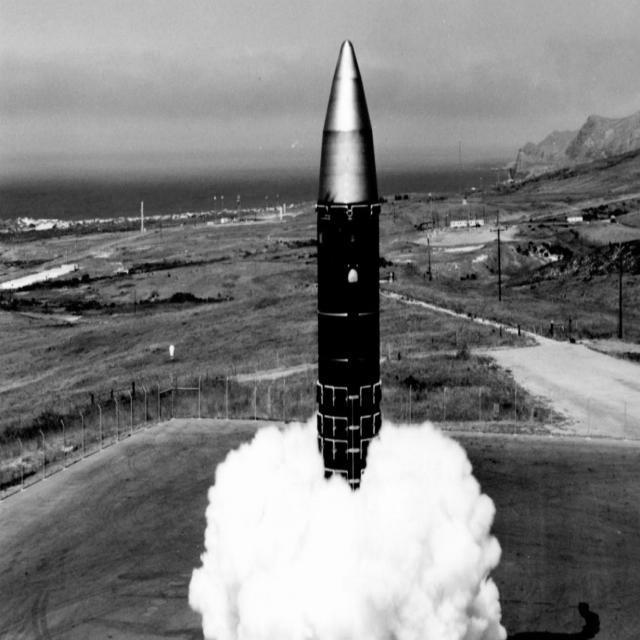Missile: (309, 32, 386, 475)
